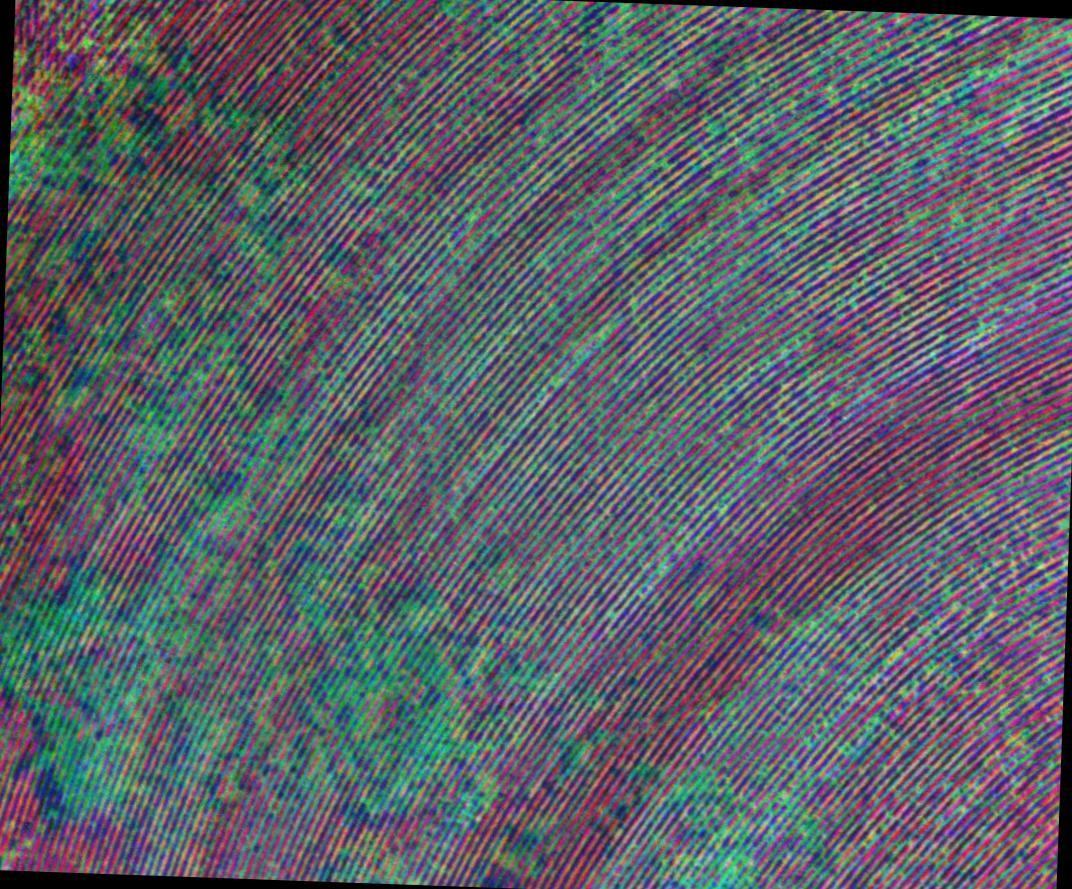dc: (550, 379, 556, 384), (467, 214, 472, 219), (620, 30, 625, 35), (61, 45, 66, 50), (624, 6, 629, 11), (22, 93, 27, 98), (40, 146, 44, 151), (163, 361, 167, 366), (65, 155, 69, 159), (772, 179, 776, 183), (168, 304, 172, 308), (276, 421, 280, 425), (85, 41, 89, 45), (19, 503, 23, 507), (832, 99, 835, 103), (360, 584, 364, 587), (611, 614, 615, 617), (289, 481, 292, 484), (660, 564, 663, 567)
